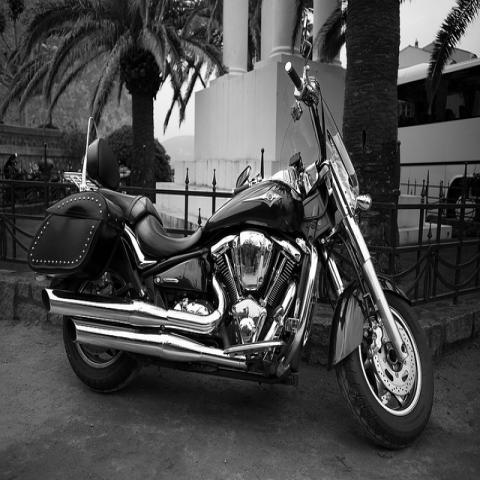bus: (398, 55, 480, 214)
motorcycle: (27, 52, 436, 450)
